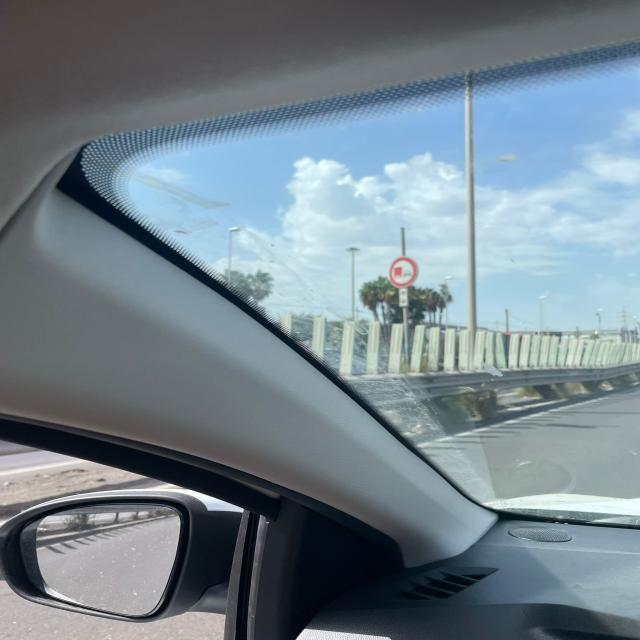forb_overtake_trucks: (388, 257, 419, 288)
